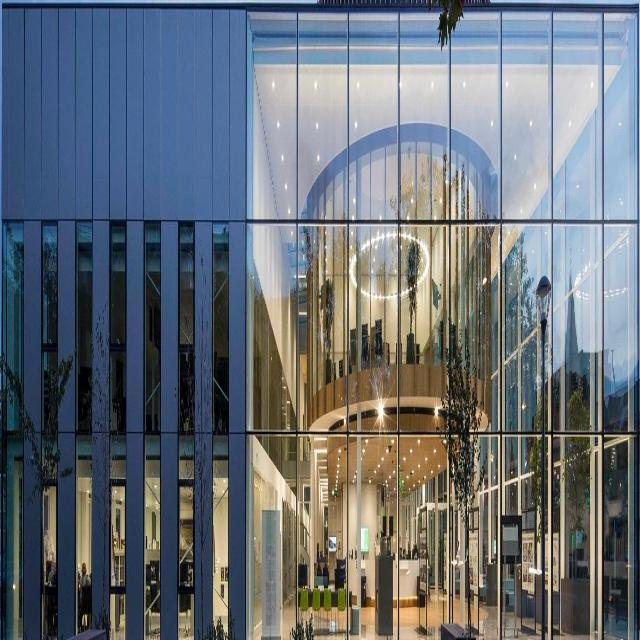window: (247, 4, 633, 639), (4, 214, 26, 628), (175, 218, 195, 638), (144, 219, 162, 639), (76, 219, 92, 639), (212, 221, 228, 639), (111, 220, 126, 631), (43, 216, 58, 433)
